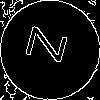Z: (25, 25, 78, 67)
